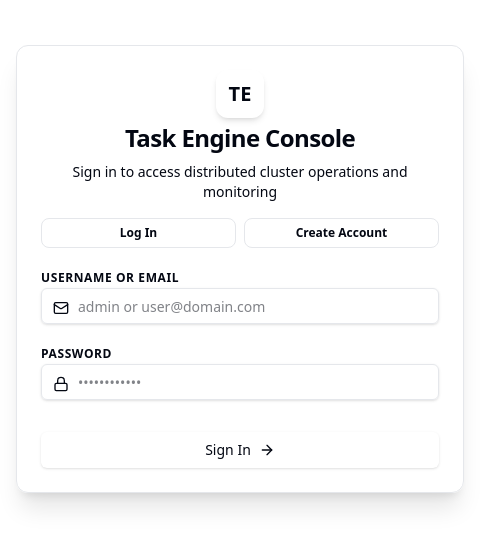
it: LoginPage component › displays error message on authentication failure
Type "wrong_user" into the field with placeholder "admin or user@domain.com" at (240, 306), box x1=41 y1=288 x2=439 y2=324
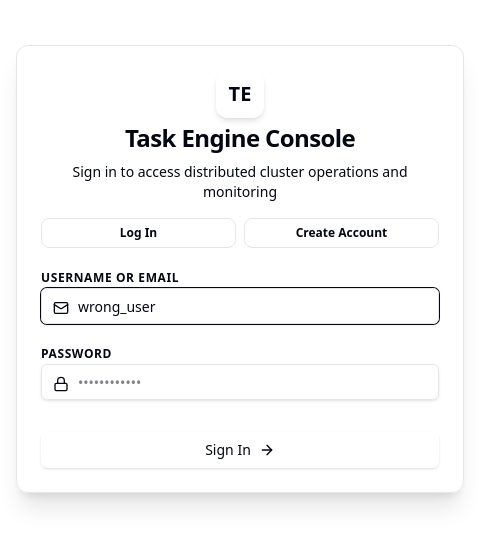
Type "wrong_pass" into the password field with placeholder "••••••••••••" at (240, 382), box x1=41 y1=364 x2=439 y2=400
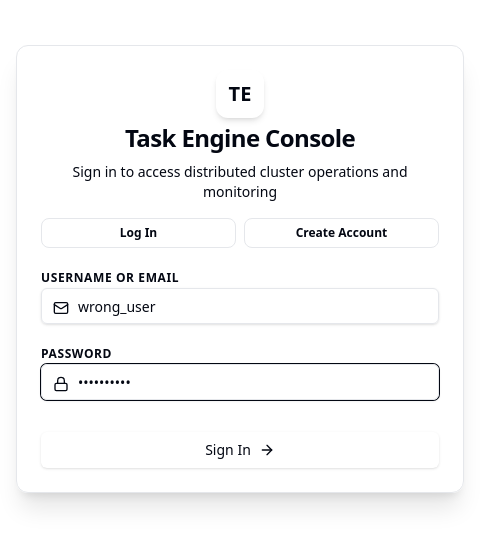
Click the button "Sign In" at (240, 450), box x1=41 y1=432 x2=439 y2=468
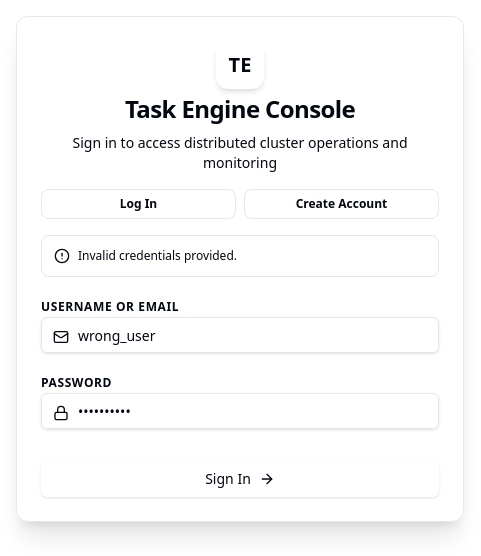
Result: the text "Invalid credentials provided." is shown at x1=78 y1=248 x2=237 y2=264
